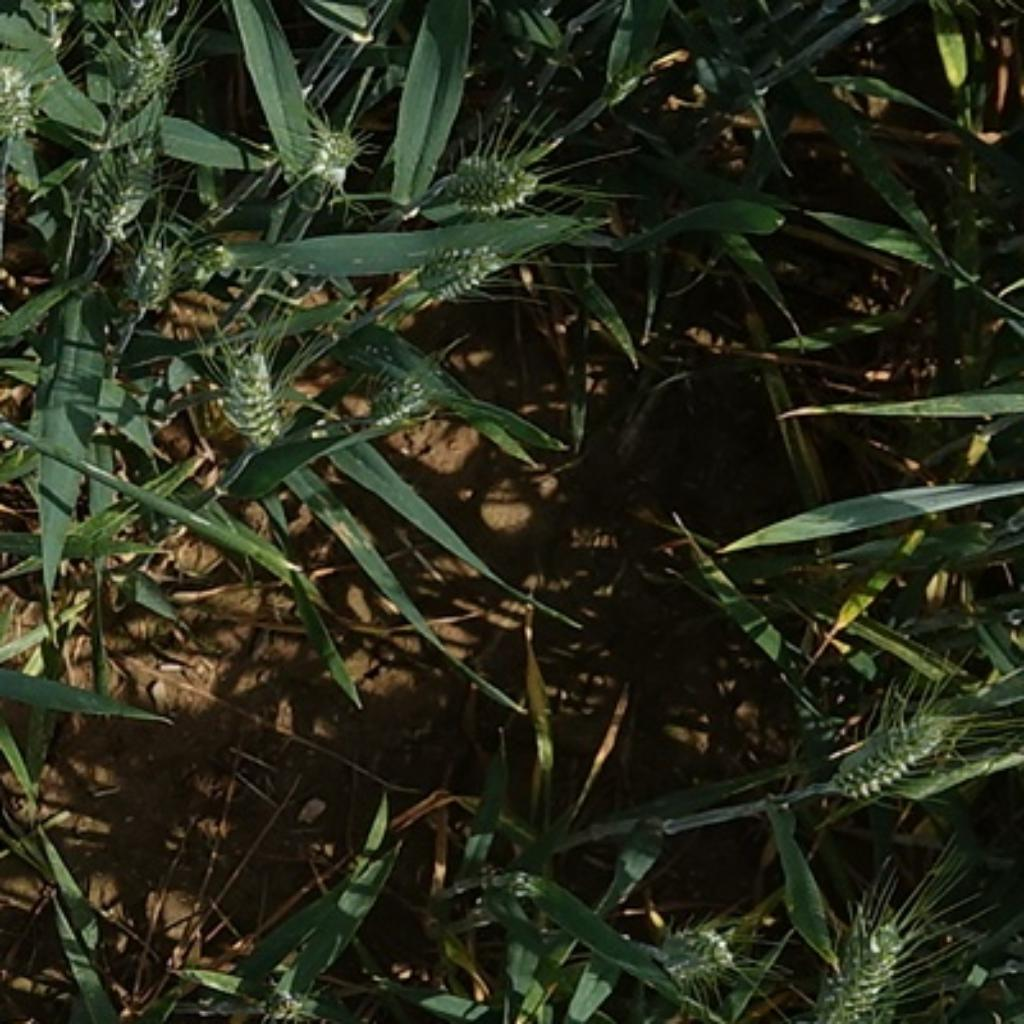0-0: (802, 876, 933, 1024), (826, 700, 965, 818), (66, 110, 166, 232), (94, 10, 186, 115), (204, 335, 289, 442), (430, 147, 547, 219), (647, 908, 744, 993), (112, 227, 204, 312), (404, 232, 514, 302), (358, 350, 453, 430), (286, 110, 368, 186), (246, 967, 326, 1023), (0, 43, 43, 140)
